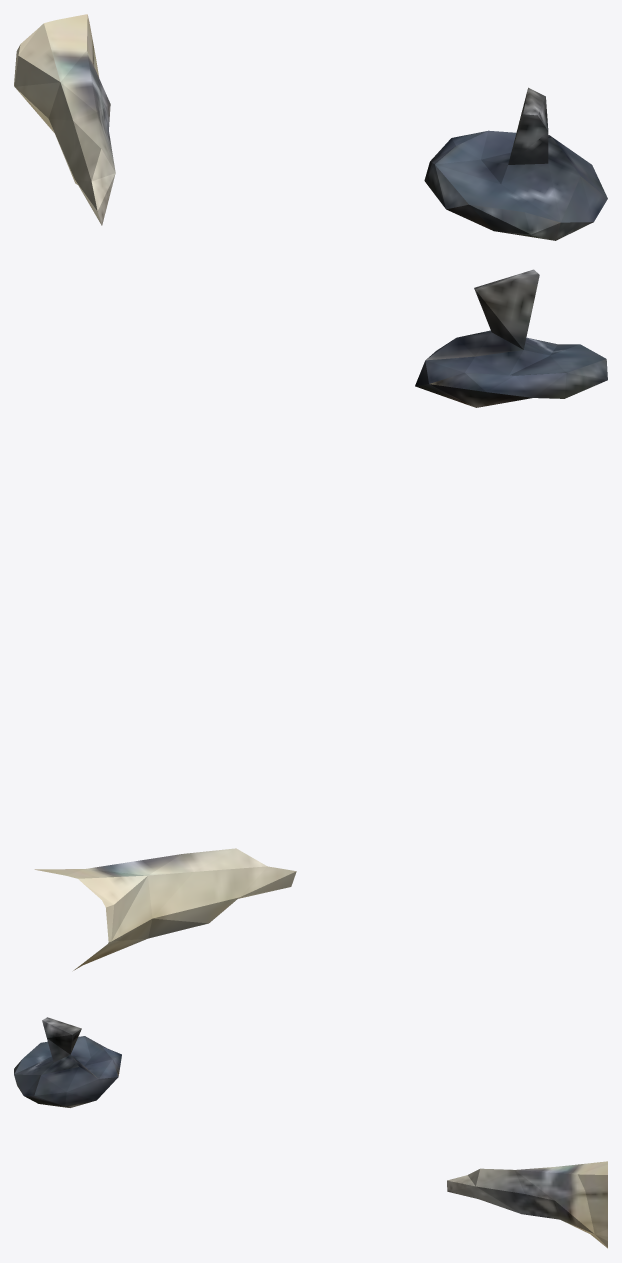
3 views of the same model, one above another, from view 1: azimuth 30°, elevation 25°; view 2: azimuth 150°, elevation 25°; view 3: azimuth 270°, elevation 25° (orthographic). The views are drawn at different scales.
Bounding box in the file's own units: 0.4829 × 0.9147 × 2.23.
1 material, 1 textured.
